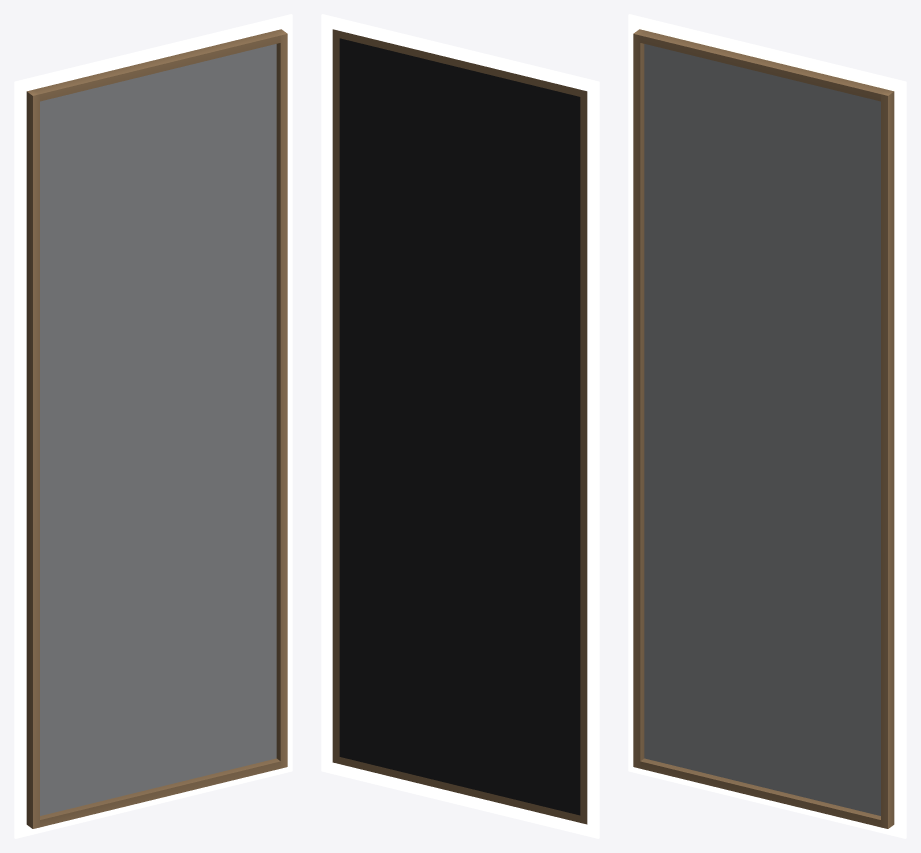
Rendered from entry_mirror_tall.gltf.
3 renders of one model, left to right at view 1: azimuth 30°, elevation 25°; view 2: azimuth 150°, elevation 25°; view 3: azimuth 330°, elevation 25°, orthographic.
Visible parts, largest first — view 1: EntryMirror_Glass.001, EntryMirror_FrameL, EntryMirror_HaloL, EntryMirror_FrameR, EntryMirror_HaloR, EntryMirror_HaloT, EntryMirror_FrameT, EntryMirror_FrameB, EntryMirror_HaloB; view 2: EntryMirror_Back.001, EntryMirror_HaloL, EntryMirror_HaloR, EntryMirror_FrameL, EntryMirror_FrameR, EntryMirror_HaloT, EntryMirror_HaloB, EntryMirror_FrameT, EntryMirror_FrameB; view 3: EntryMirror_Glass.001, EntryMirror_FrameR, EntryMirror_HaloR, EntryMirror_FrameL, EntryMirror_HaloL, EntryMirror_HaloT, EntryMirror_FrameT, EntryMirror_FrameB, EntryMirror_HaloB.
Part boxes in pixels (x1,y1,x2,y2): EntryMirror_Glass.001: (40,44,276,815); EntryMirror_FrameL: (26,89,39,828); EntryMirror_HaloL: (14,79,26,838); EntryMirror_FrameR: (275,29,287,768); EntryMirror_HaloR: (280,14,292,773); EntryMirror_HaloT: (26,17,281,90); EntryMirror_FrameT: (34,31,280,101); EntryMirror_FrameB: (40,758,280,827); EntryMirror_HaloB: (26,768,281,835); EntryMirror_Back.001: (339,38,580,815); EntryMirror_HaloL: (587,79,599,838); EntryMirror_HaloR: (321,14,333,773); EntryMirror_FrameL: (580,89,587,824); EntryMirror_FrameR: (332,29,339,763); EntryMirror_HaloT: (332,17,587,90); EntryMirror_HaloB: (332,762,587,835); EntryMirror_FrameT: (339,31,580,96); EntryMirror_FrameB: (339,757,580,822); EntryMirror_Glass.001: (644,44,880,815); EntryMirror_FrameR: (881,89,894,828); EntryMirror_HaloR: (894,79,906,838); EntryMirror_FrameL: (633,29,645,768); EntryMirror_HaloL: (628,14,639,773); EntryMirror_HaloT: (639,16,894,90); EntryMirror_FrameT: (640,31,886,101); EntryMirror_FrameB: (640,758,880,827); EntryMirror_HaloB: (639,768,894,835).
Bounding box in the file's own units: 0.8701 × 2.27 × 0.04.
